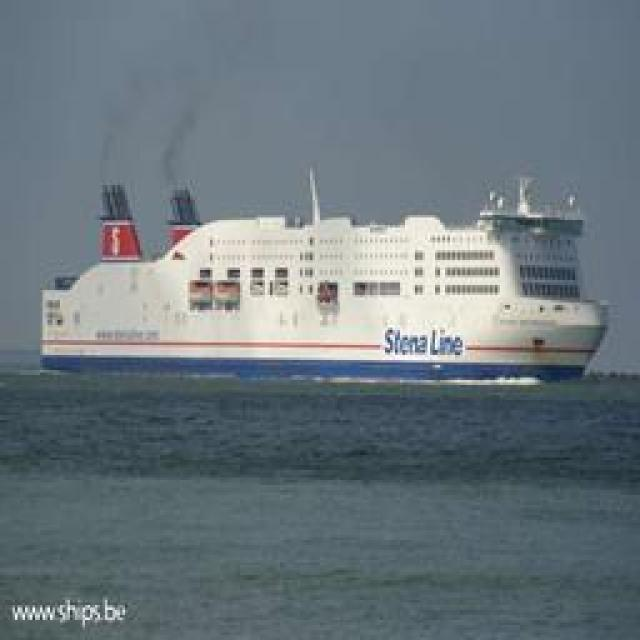CIV_Ship: (36, 172, 596, 376)
